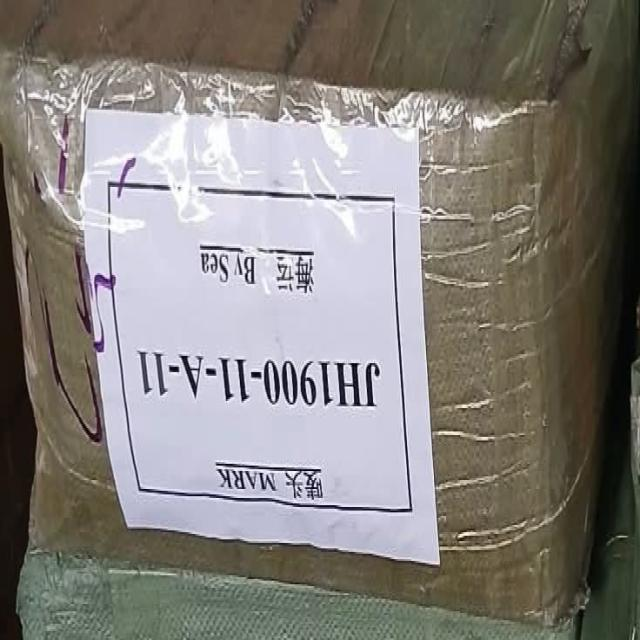carton_box: (0, 0, 640, 637)
export_mark_label: (79, 86, 475, 604)
